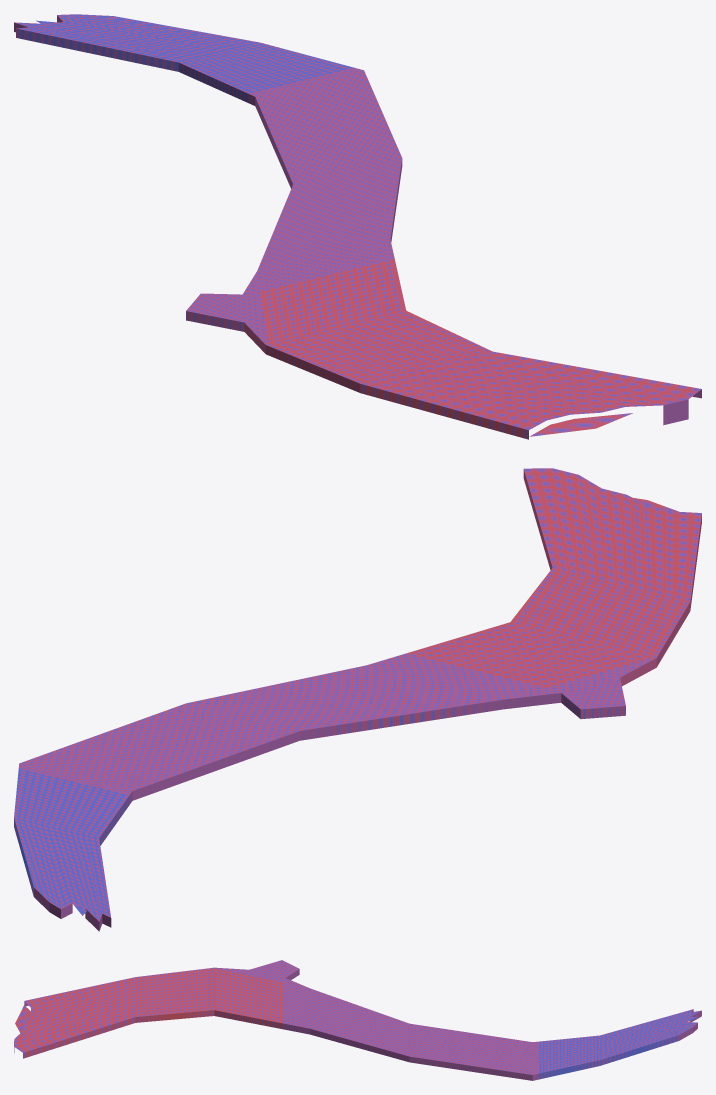
The model's file is log.fbx.
The picture shows the model from 3 angles, top to bottom: view 1: azimuth 30°, elevation 25°; view 2: azimuth 150°, elevation 25°; view 3: azimuth 270°, elevation 25°; orthographic projection. The views are drawn at different scales.
Parts seen in each view (by area): view 1: Plane; view 2: Plane; view 3: Plane.
Boxes of the visible parts, x1,y1,x2,y2 form: Plane: (14,14,701,439); Plane: (14,468,701,931); Plane: (14,960,701,1080).
Size of the model in its own units: 718 by 35.95 by 1815.
